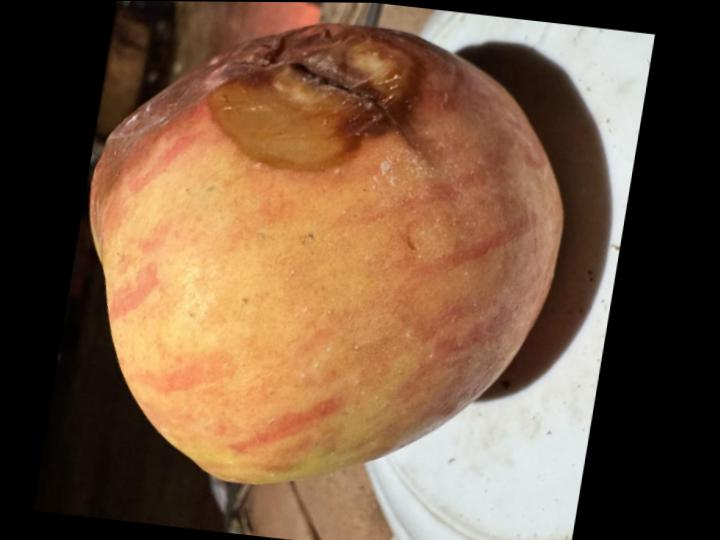apple: (91, 23, 563, 482)
rot_mold_decay: (91, 23, 444, 201)
